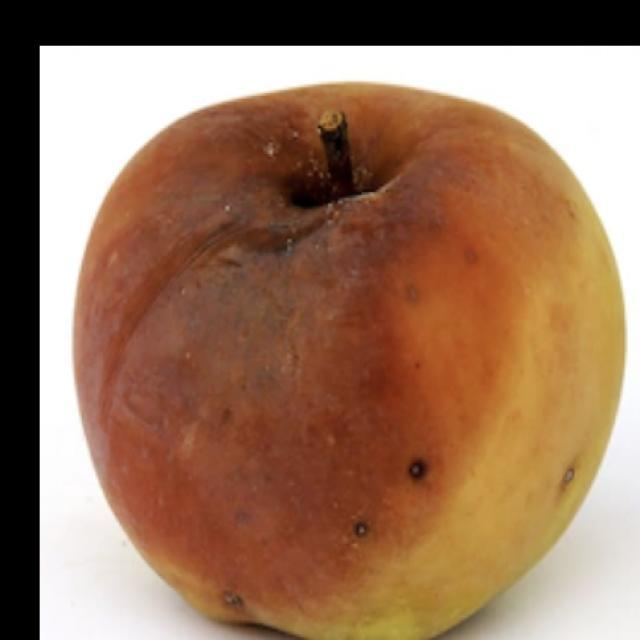Rotten: (55, 83, 593, 640)
